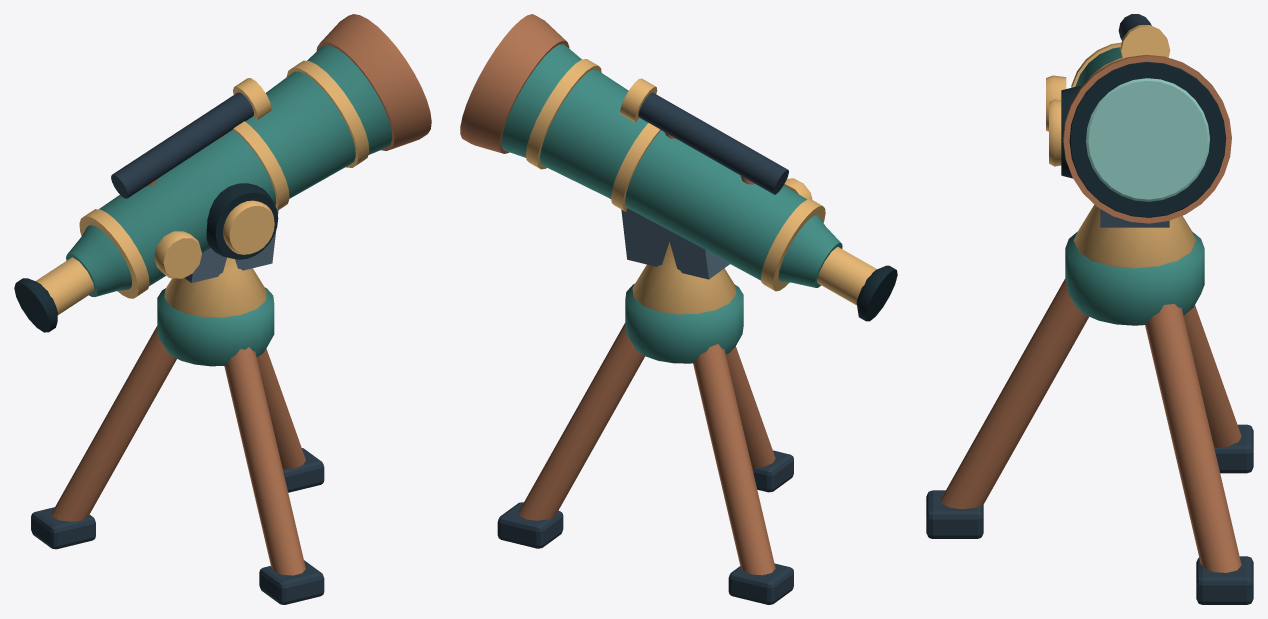
3 views of the same model, side by side, from view 1: azimuth 30°, elevation 25°; view 2: azimuth 150°, elevation 25°; view 3: azimuth 270°, elevation 25° (orthographic). The views are drawn at different scales.
Visible parts, largest first — view 1: PR073 enamel and hardware; view 2: PR073 enamel and hardware; view 3: PR073 enamel and hardware.
Boxes of the visible parts, left/top/right/bottom form: PR073 enamel and hardware: left=14, top=14, right=431, bottom=604; PR073 enamel and hardware: left=460, top=14, right=897, bottom=604; PR073 enamel and hardware: left=926, top=14, right=1253, bottom=604.
Size of the model in its own units: 1.24 by 1.43 by 0.75.
